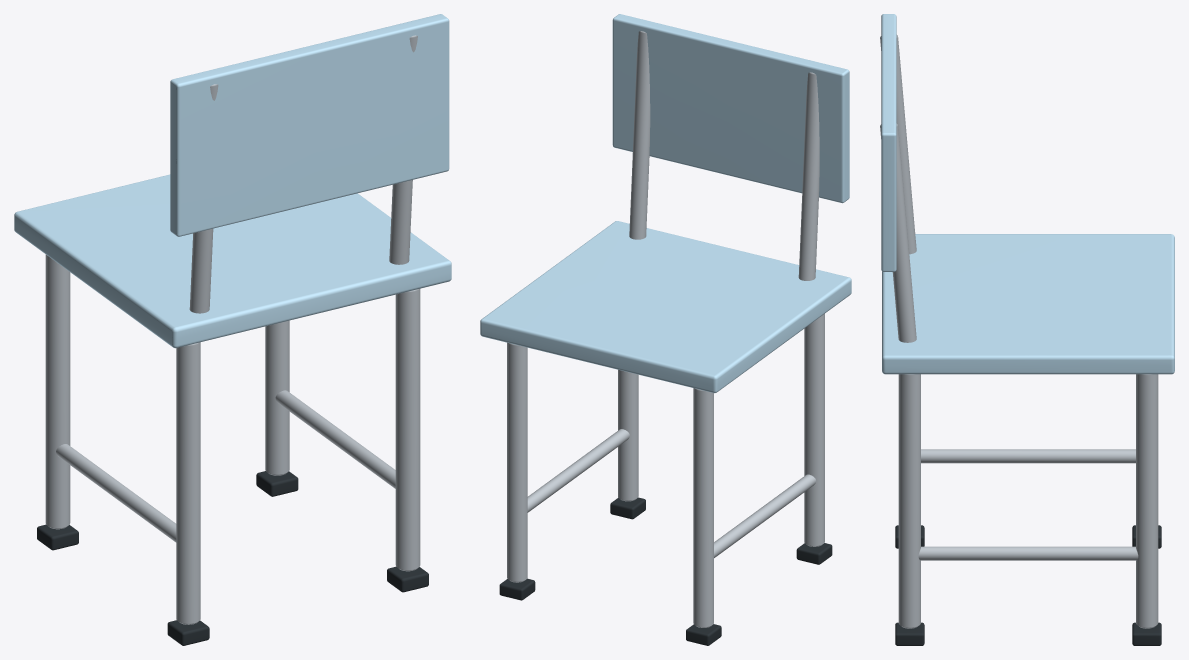
The model's file is student_chair.glb.
3 views of the same model, side by side, from view 1: azimuth 30°, elevation 25°; view 2: azimuth 150°, elevation 25°; view 3: azimuth 270°, elevation 25° (orthographic). The views are drawn at different scales.
Parts seen in each view (by area): view 1: Student_Backrest, Student_Seat, Student_Chair0.1650.17, Student_Chair-0.1650.17, Student_Chair-0.165-0.17, Student_Chair0.165-0.17, Student_Chair_Brace-0.165, Student_Chair_Brace0.165, Student_Back_Post0.15, Student_Back_Post-0.15, Student_Chair_Rubber-0.1650.17, Student_Chair_Rubber0.165-0.17 (+2 smaller); view 2: Student_Seat, Student_Backrest, Student_Chair0.165-0.17, Student_Chair-0.165-0.17, Student_Chair-0.1650.17, Student_Back_Post-0.15, Student_Back_Post0.15, Student_Chair0.1650.17, Student_Chair_Brace0.165, Student_Chair_Brace-0.165, Student_Chair_Rubber-0.1650.17, Student_Chair_Rubber0.165-0.17 (+2 smaller); view 3: Student_Seat, Student_Chair0.165-0.17, Student_Chair0.1650.17, Student_Backrest, Student_Chair_Brace0.165, Student_Chair_Brace-0.165, Student_Back_Post0.15, Student_Back_Post-0.15, Student_Chair_Rubber0.1650.17, Student_Chair_Rubber0.165-0.17.
Boxes of the visible parts, x1,y1,x2,y2 form: Student_Backrest: [170, 14, 449, 236]; Student_Seat: [14, 174, 451, 348]; Student_Chair0.1650.17: [395, 289, 420, 571]; Student_Chair-0.1650.17: [176, 342, 200, 624]; Student_Chair-0.165-0.17: [45, 254, 70, 529]; Student_Chair0.165-0.17: [265, 320, 289, 475]; Student_Chair_Brace-0.165: [56, 444, 176, 542]; Student_Chair_Brace0.165: [275, 390, 395, 488]; Student_Back_Post0.15: [389, 35, 417, 264]; Student_Back_Post-0.15: [189, 84, 218, 313]; Student_Chair_Rubber-0.1650.17: [167, 620, 209, 645]; Student_Chair_Rubber0.165-0.17: [256, 471, 298, 496]; Student_Seat: [480, 221, 851, 393]; Student_Backrest: [612, 14, 849, 203]; Student_Chair0.165-0.17: [507, 342, 527, 582]; Student_Chair-0.165-0.17: [693, 388, 713, 627]; Student_Chair-0.1650.17: [804, 313, 824, 546]; Student_Back_Post-0.15: [798, 72, 819, 280]; Student_Back_Post0.15: [629, 31, 650, 239]; Student_Chair0.1650.17: [618, 369, 638, 501]; Student_Chair_Brace0.165: [527, 429, 629, 512]; Student_Chair_Brace-0.165: [714, 474, 815, 557]; Student_Chair_Rubber-0.1650.17: [796, 543, 832, 564]; Student_Chair_Rubber0.165-0.17: [499, 578, 535, 600]; Student_Seat: [882, 234, 1174, 374]; Student_Chair0.165-0.17: [1136, 374, 1158, 628]; Student_Chair0.1650.17: [898, 374, 920, 628]; Student_Backrest: [881, 14, 896, 271]; Student_Chair_Brace0.165: [918, 546, 1138, 560]; Student_Chair_Brace-0.165: [921, 449, 1135, 463]; Student_Back_Post0.15: [880, 123, 916, 342]; Student_Back_Post-0.15: [880, 35, 916, 254]; Student_Chair_Rubber0.1650.17: [895, 622, 924, 645]; Student_Chair_Rubber0.165-0.17: [1132, 622, 1161, 645].
Size of the model in its own units: 0.42 by 0.82 by 0.4228.
